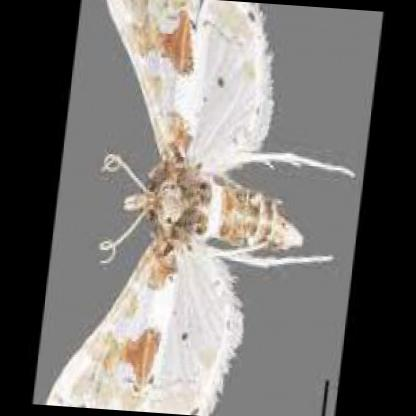leucinodes: (51, 0, 333, 414)
